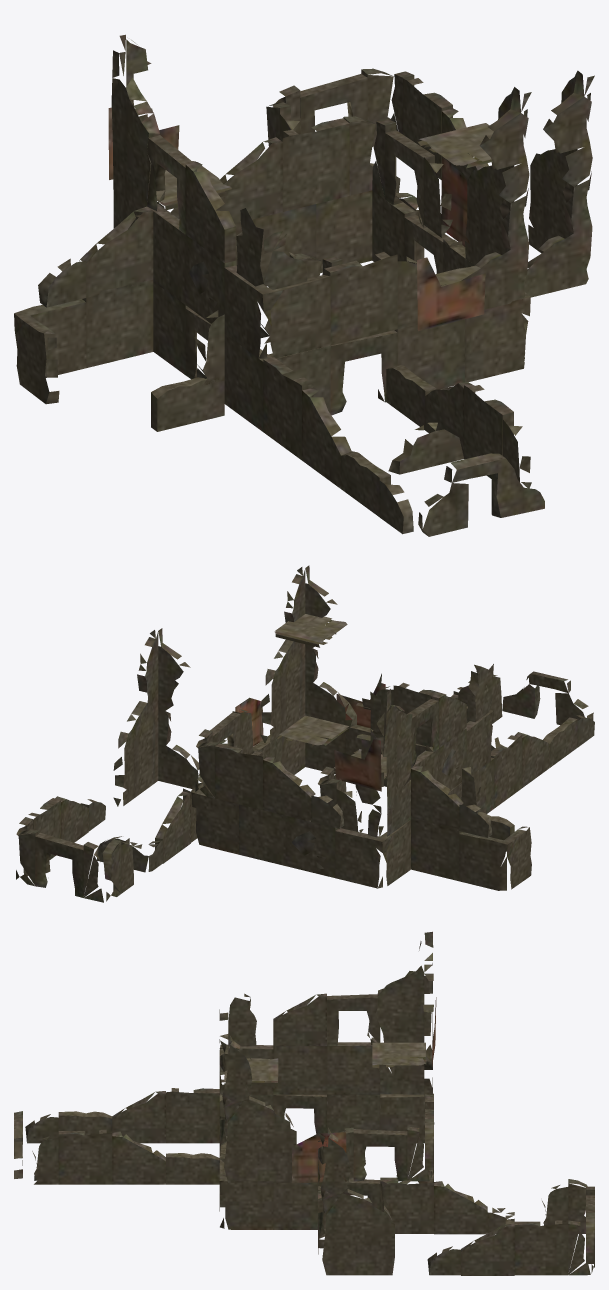
File: jungle_ruins_b.glb
The picture shows the model from 3 angles, top to bottom: view 1: azimuth 30°, elevation 25°; view 2: azimuth 150°, elevation 25°; view 3: azimuth 270°, elevation 25°; orthographic projection. The views are drawn at different scales.
Parts seen in each view (by area): view 1: jungle_ruins_b_HLOD; view 2: jungle_ruins_b_HLOD; view 3: jungle_ruins_b_HLOD.
Boxes of the visible parts, box(x1,y1,x2,y2) form: jungle_ruins_b_HLOD: box(14, 34, 594, 536); jungle_ruins_b_HLOD: box(16, 565, 594, 902); jungle_ruins_b_HLOD: box(14, 931, 594, 1275).
Size of the model in its own units: 24 by 13.46 by 32.5.
1 material, 1 textured.
